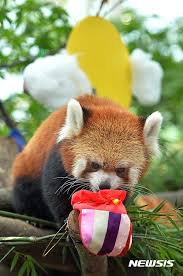redPanda: (4, 93, 168, 250)
